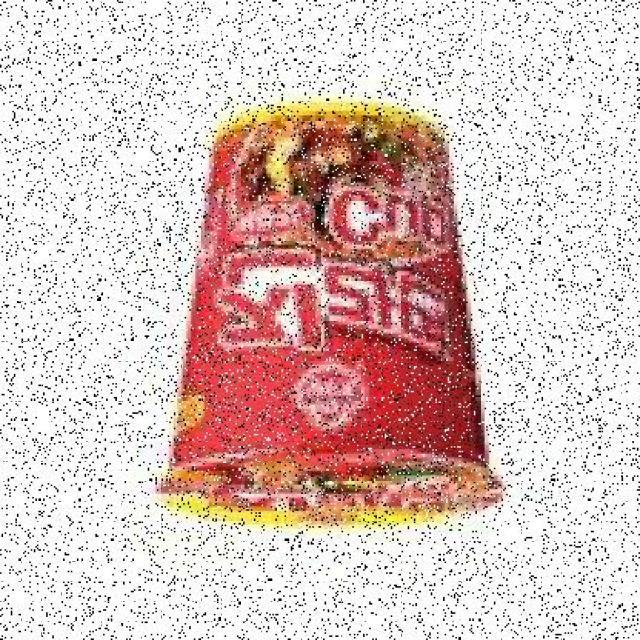Miscellaneous: (153, 86, 509, 551)
